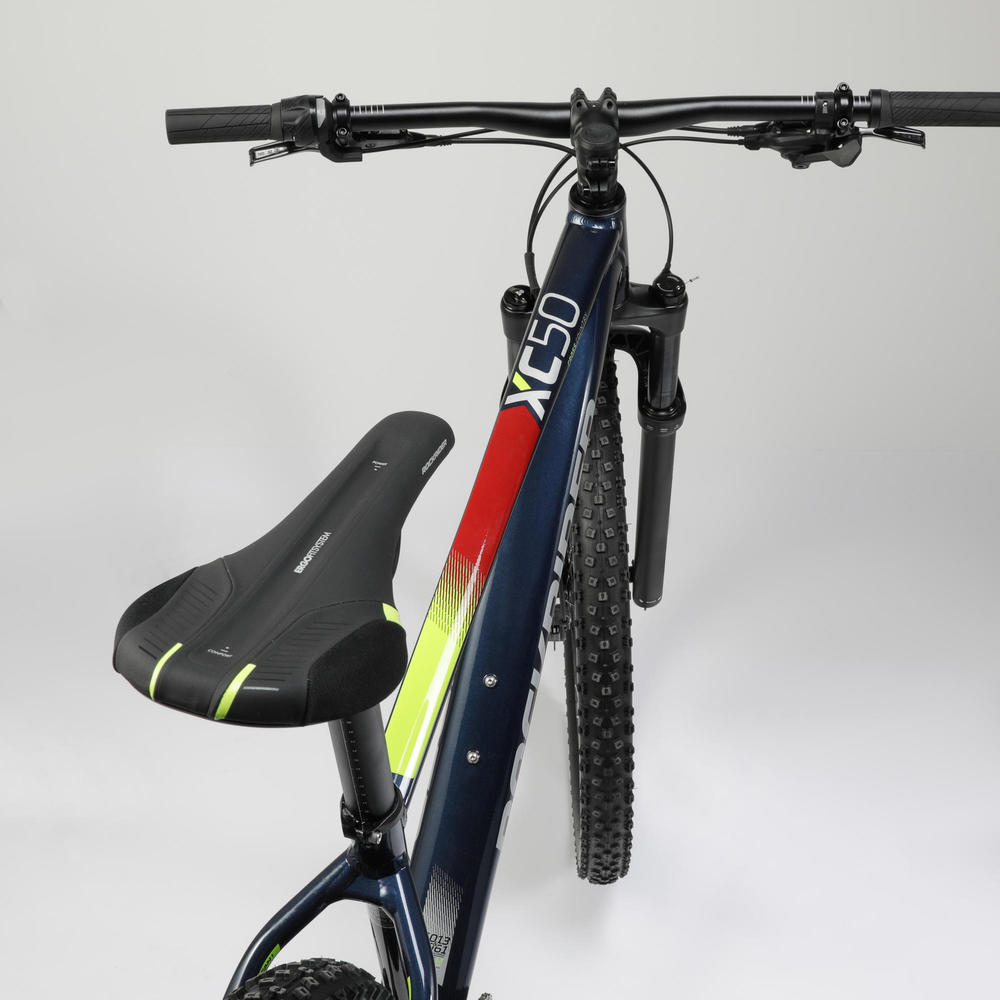MountainBike: (99, 62, 1000, 1000)
